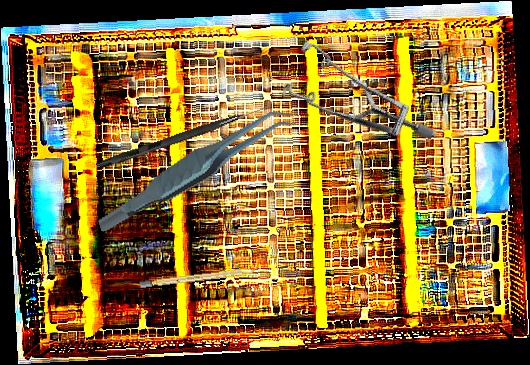Hook Surgical: (95, 99, 273, 173)
Scalpel Handle: (139, 266, 258, 289)
Speculum: (264, 7, 438, 193)
Tissue Forceps: (82, 104, 310, 235)
